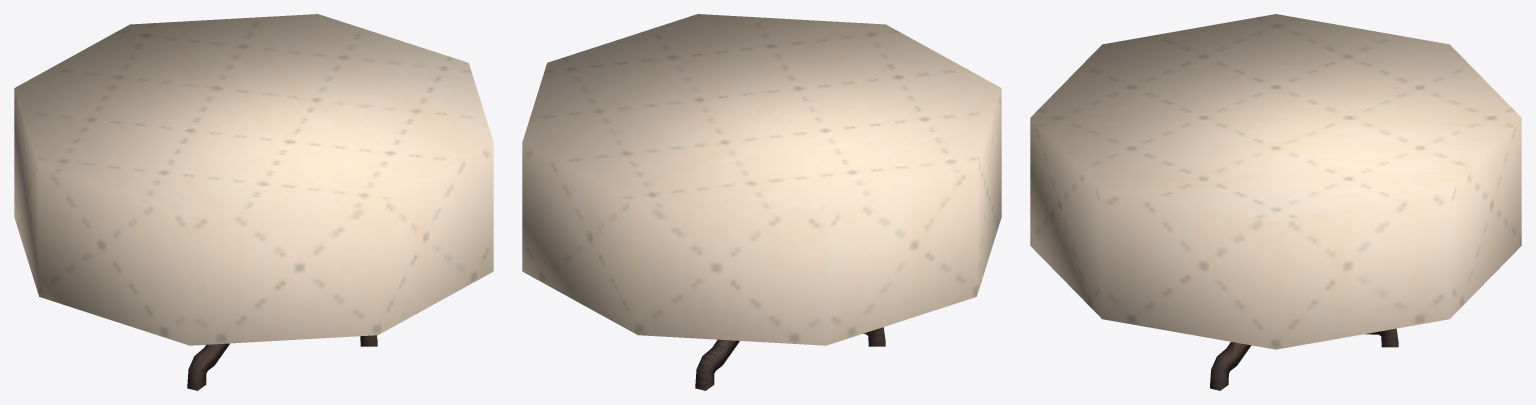
File: Tableb.glb
3 views of the same model, side by side, from view 1: azimuth 30°, elevation 25°; view 2: azimuth 150°, elevation 25°; view 3: azimuth 270°, elevation 25° (orthographic).
Parts seen in each view (by area): view 1: Cylinder, Plane.001; view 2: Cylinder, Plane.001; view 3: Cylinder, Plane.001.
Part boxes in pixels (x1,y1,x2,y2): Cylinder: (14, 14, 493, 345); Plane.001: (187, 335, 377, 390); Cylinder: (522, 14, 1001, 345); Plane.001: (695, 327, 885, 390); Cylinder: (1030, 14, 1521, 349); Plane.001: (1210, 328, 1398, 390).
Size of the model in its own units: 2 by 1.02 by 2.
Materials: 2 (2 with a texture image).
